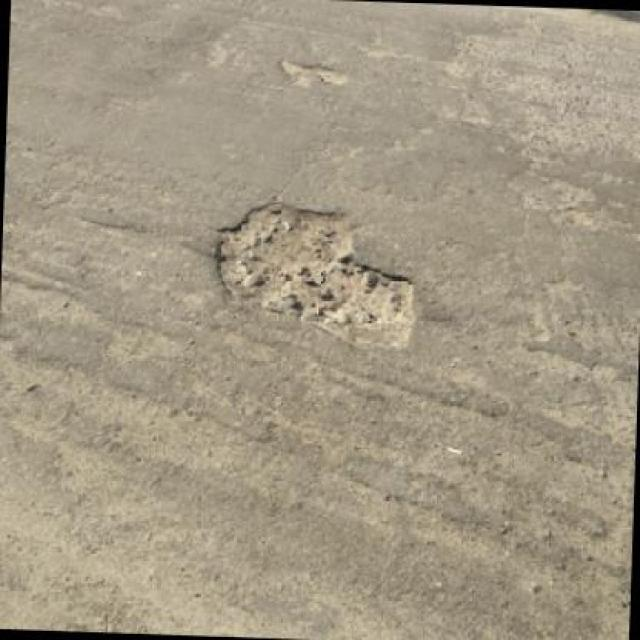pothole1: (210, 189, 427, 349), (273, 58, 352, 85)
